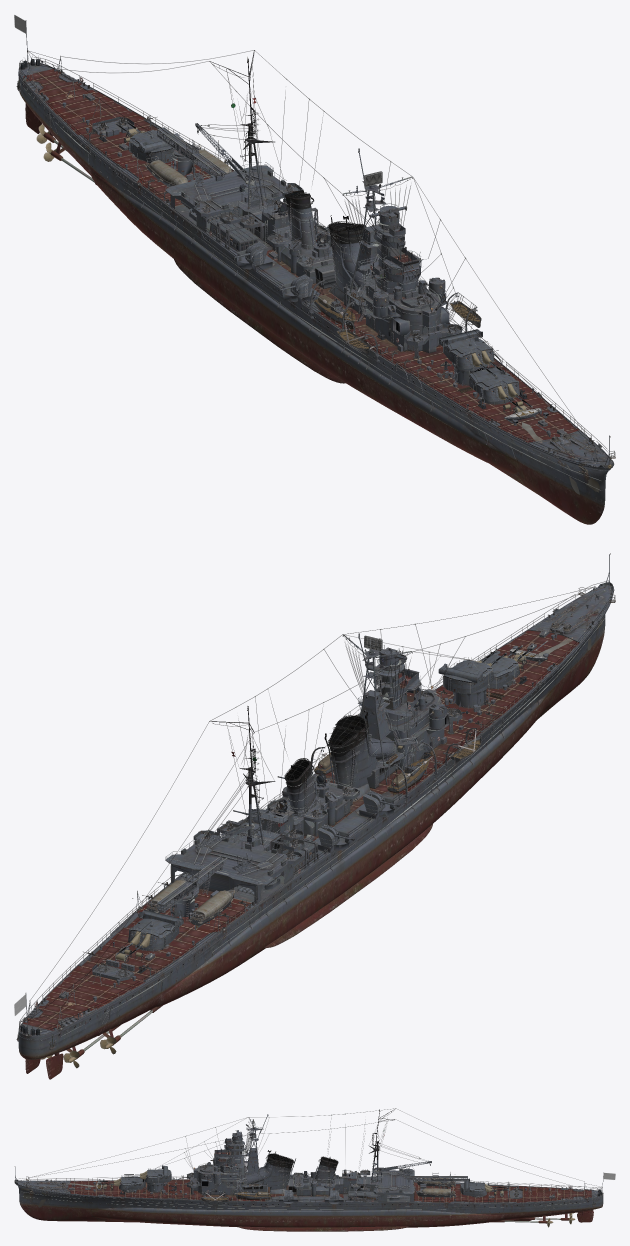
The model's file is ijn_aoba_war_thunder-maximum-compressed.glb.
3 renders of one model, top to bottom at view 1: azimuth 30°, elevation 25°; view 2: azimuth 150°, elevation 25°; view 3: azimuth 270°, elevation 25°, orthographic. The views are drawn at different scales.
Visible parts, largest first — view 1: Object_81, Object_55, Object_41, Object_89, Object_79, Object_49, Object_78, Object_84, Object_36, Object_82, Object_77, Object_83 (+11 smaller); view 2: Object_81, Object_41, Object_55, Object_89, Object_49, Object_79, Object_78, Object_77, Object_36, Object_80, Object_82, Object_84 (+11 smaller); view 3: Object_81, Object_55, Object_41, Object_89, Object_79, Object_49, Object_80, Object_83, Object_78, Object_36, Object_82, Object_77 (+14 smaller).
Part boxes in pixels (x1,y1,x2,y2): Object_81: (18, 62, 612, 506); Object_55: (20, 94, 604, 524); Object_41: (23, 69, 578, 442); Object_89: (20, 63, 460, 340); Object_79: (267, 206, 449, 352); Object_49: (19, 50, 614, 462); Object_78: (165, 170, 421, 298); Object_84: (209, 198, 599, 461); Object_36: (19, 62, 614, 490); Object_82: (250, 207, 487, 387); Object_77: (239, 148, 427, 305); Object_83: (156, 123, 569, 443); Object_81: (18, 582, 612, 1056); Object_41: (23, 630, 578, 1030); Object_55: (19, 634, 604, 1079); Object_89: (20, 664, 459, 1035); Object_49: (19, 580, 614, 1033); Object_79: (267, 689, 449, 836); Object_78: (165, 668, 421, 903); Object_77: (239, 633, 427, 851); Object_36: (20, 583, 614, 1037); Object_80: (329, 658, 446, 801); Object_82: (261, 652, 495, 853); Object_84: (217, 593, 599, 875); Object_81: (14, 1179, 603, 1216); Object_55: (20, 1204, 602, 1231); Object_41: (68, 1141, 591, 1202); Object_89: (187, 1140, 602, 1204); Object_79: (193, 1162, 343, 1196); Object_49: (15, 1108, 601, 1202); Object_80: (207, 1130, 293, 1193); Object_83: (207, 1161, 467, 1202); Object_78: (214, 1149, 416, 1201); Object_36: (15, 1177, 603, 1209); Object_82: (146, 1138, 368, 1194); Object_77: (214, 1114, 382, 1191).
Size of the model in its own units: 23.31 by 38.89 by 189.
38 materials, 38 textured.
